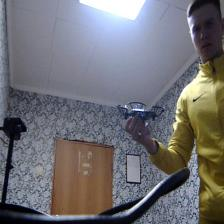drone: (116, 98, 168, 126)
